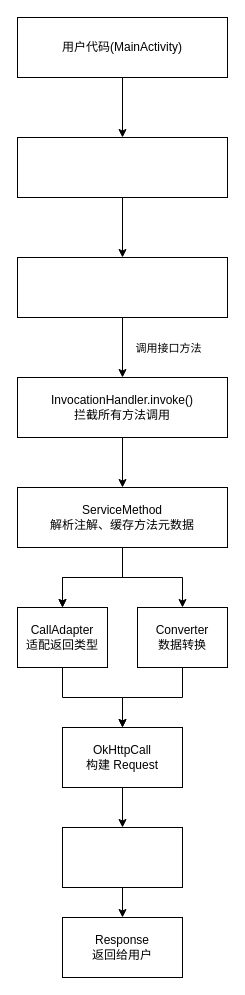
The diagram is 245 pixels wide and 995 high, and some of its shapes have lost their labels. The centre of each missing label's shape, as x and y in pixels:
GithubService(接口定义) @GET("user/{user}/repos") suspend fun listRepos(...): [122,167]
OkHttp 执行网络请求: [122,857]
Retrofit.create() 动态代理 Proxy.newProxyInstance(): [122,287]
